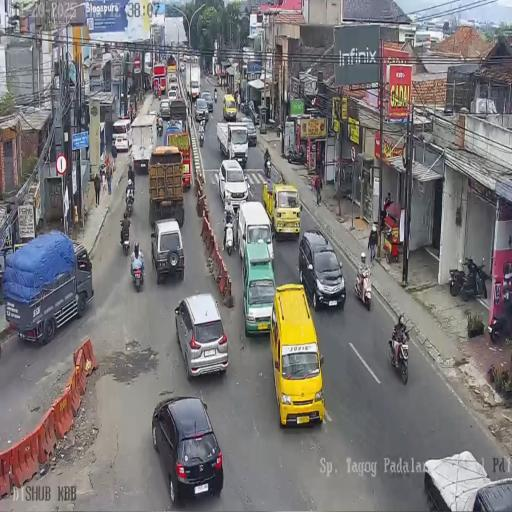car: (152, 396, 224, 506), (269, 286, 323, 426), (174, 291, 229, 379), (299, 230, 344, 312), (241, 240, 275, 334), (150, 219, 184, 285), (217, 157, 248, 212), (112, 117, 133, 153), (240, 115, 257, 147), (222, 93, 236, 121), (194, 97, 209, 123), (159, 98, 171, 120), (167, 84, 178, 101), (180, 62, 186, 73)
motorcycle: (448, 253, 488, 302), (490, 266, 512, 338), (388, 324, 410, 385), (354, 263, 371, 311), (222, 212, 236, 255), (130, 255, 144, 290), (288, 144, 306, 166), (119, 220, 130, 255), (125, 183, 134, 214), (264, 156, 272, 179), (198, 125, 205, 148), (156, 118, 163, 138), (240, 100, 247, 114), (276, 122, 282, 138), (217, 76, 222, 88), (214, 88, 218, 102)
truck: (6, 230, 94, 342), (148, 144, 184, 228), (129, 115, 157, 177), (168, 98, 187, 128), (153, 63, 167, 95), (190, 65, 201, 100), (144, 52, 152, 76)
